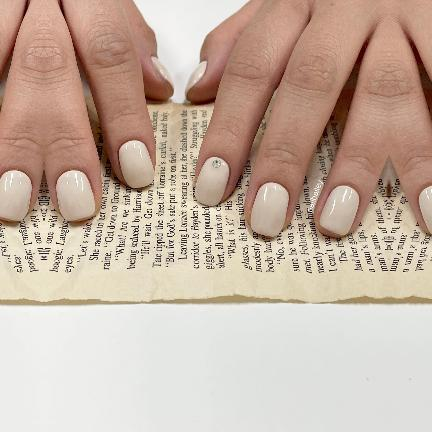Nail: (249, 182, 289, 237), (319, 186, 359, 236), (55, 170, 94, 221), (117, 140, 154, 188), (194, 157, 229, 206), (0, 170, 31, 221), (185, 61, 207, 94), (150, 57, 173, 88), (418, 186, 432, 235)
